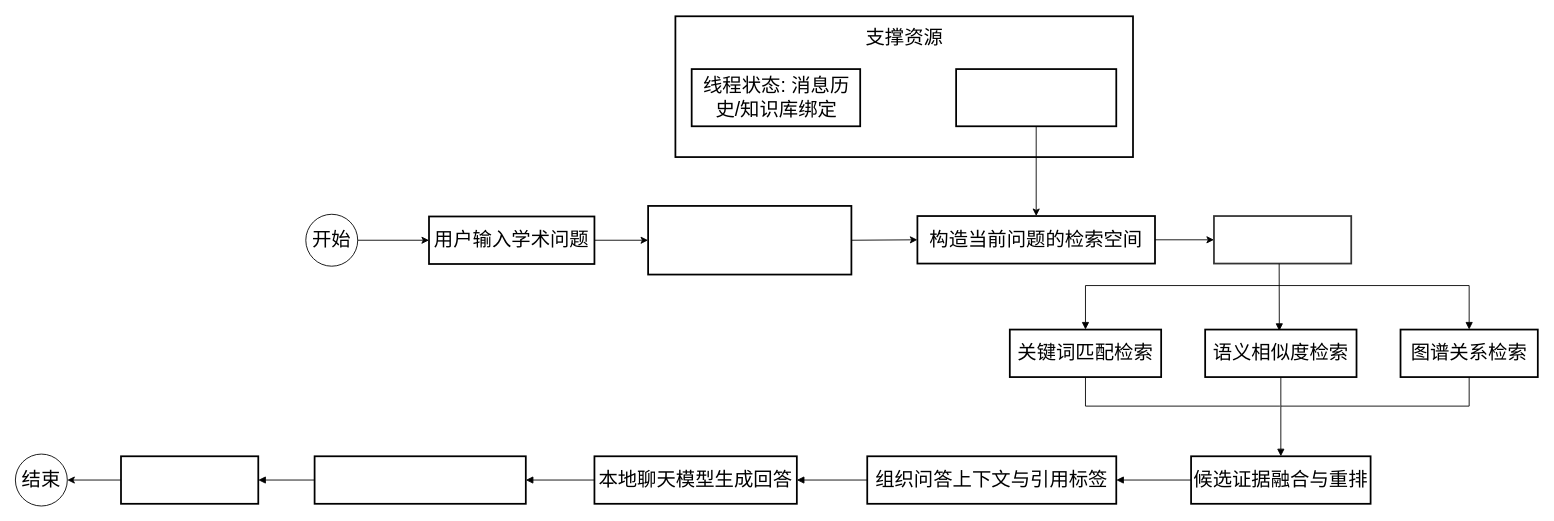
Some shapes in this 1554 by 521 pixel diagram are drawn without their labels. The shapes that lost their labels are listed below. From the top down, each one's centre as x and y in pixels, then its label:
At pixel 1036 97: "知识资源: 切片数据/图谱数据".
At pixel 749 240: "读取线程状态与知识库绑定信息".
At pixel 1282 239: "执行混合检索".
At pixel 189 479: "流式返回前端".
At pixel 419 479: "引用审计与格式化输出".
